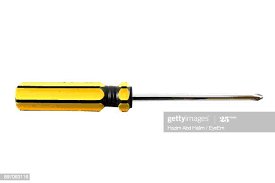screwdriver: (12, 72, 267, 122)
